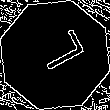L_SW: (25, 29, 85, 81)
